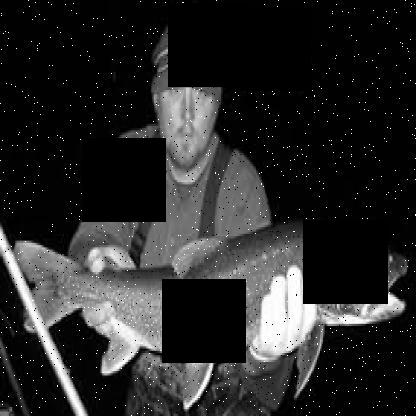fish: (10, 215, 407, 408)
